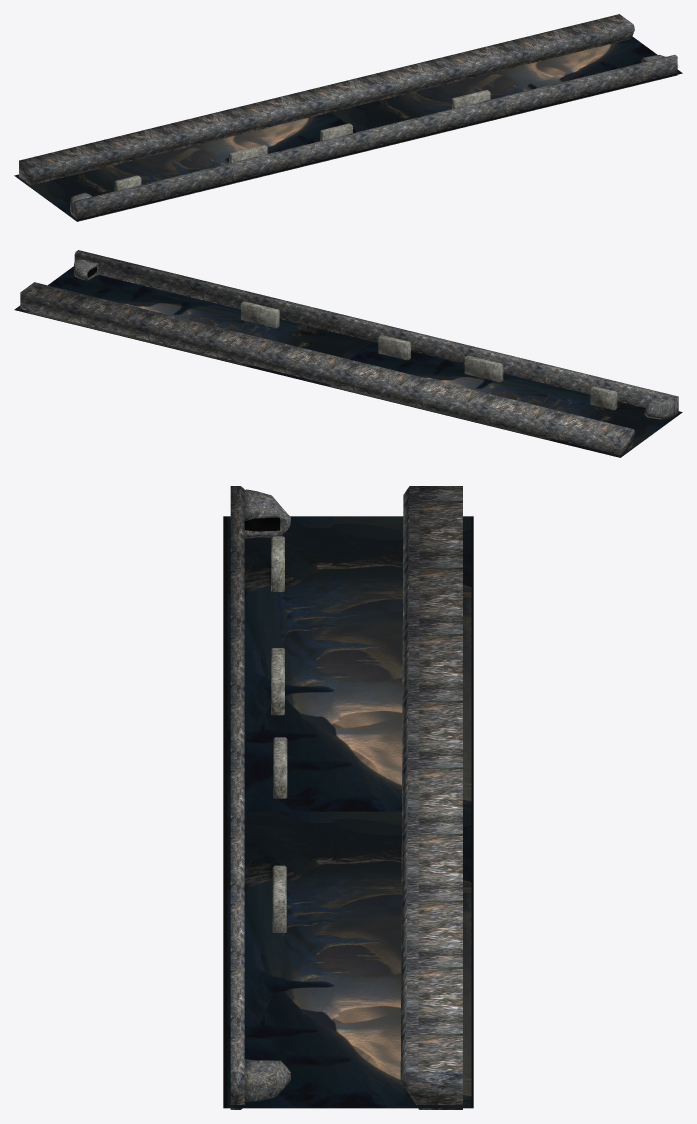
File: nivel3.obj
3 renders of one model, top to bottom at view 1: azimuth 30°, elevation 25°; view 2: azimuth 150°, elevation 25°; view 3: azimuth 270°, elevation 25°, orthographic. The views are drawn at different scales.
Parts seen in each view (by area): view 1: Box024, Box010, Plane003, Plane002, Box015, Box022, Box023; view 2: Box024, Box010, Plane003, Plane002, Box022, Box015, Box023, Box012, Box017, Box025; view 3: Plane003, Plane002, Box024, Box010, Box012, Box025, Box015, Box022, Box023.
Part boxes in pixels (x1,y1,x2,y2): Box024: (19, 14, 634, 185); Box010: (73, 54, 677, 221); Plane003: (331, 36, 682, 147); Plane002: (14, 112, 378, 221); Box015: (452, 90, 490, 108); Box022: (229, 144, 267, 163); Box023: (320, 123, 352, 140); Box024: (20, 282, 635, 455); Box010: (74, 250, 678, 415); Plane003: (14, 266, 374, 383); Plane002: (316, 342, 682, 457); Box022: (464, 355, 503, 382); Box015: (241, 301, 279, 328); Box023: (378, 335, 410, 360); Box012: (644, 397, 674, 419); Box017: (590, 386, 617, 410); Box025: (74, 258, 98, 280); Plane003: (223, 811, 473, 1108); Plane002: (223, 516, 473, 811); Box024: (400, 486, 462, 1109); Box010: (230, 486, 244, 1109); Box012: (244, 489, 290, 538); Box025: (244, 1059, 290, 1101); Box015: (272, 865, 286, 932); Box022: (271, 648, 284, 715); Box023: (273, 737, 287, 798).
Size of the model in its own units: 1009 by 31.57 by 180.
